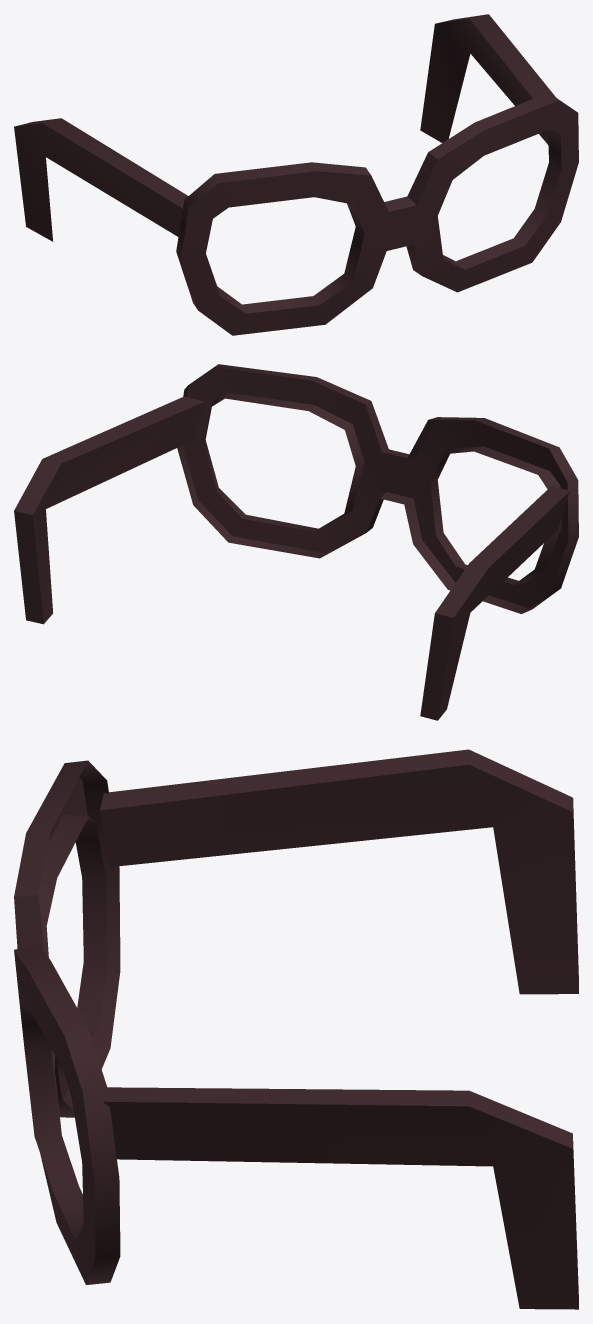
The model's file is Female_Glasses_01.fbx.
3 renders of one model, top to bottom at view 1: azimuth 30°, elevation 25°; view 2: azimuth 150°, elevation 25°; view 3: azimuth 270°, elevation 25°, orthographic. The views are drawn at different scales.
Visible parts, largest first — view 1: Female_Glasses_01; view 2: Female_Glasses_01; view 3: Female_Glasses_01.
Part boxes in pixels (x1=…): Female_Glasses_01: x1=14, y1=14, x2=578, y2=335; Female_Glasses_01: x1=14, y1=364, x2=578, y2=720; Female_Glasses_01: x1=14, y1=749, x2=578, y2=1309.
Size of the model in its own units: 55.77 by 20.1 by 37.32.
